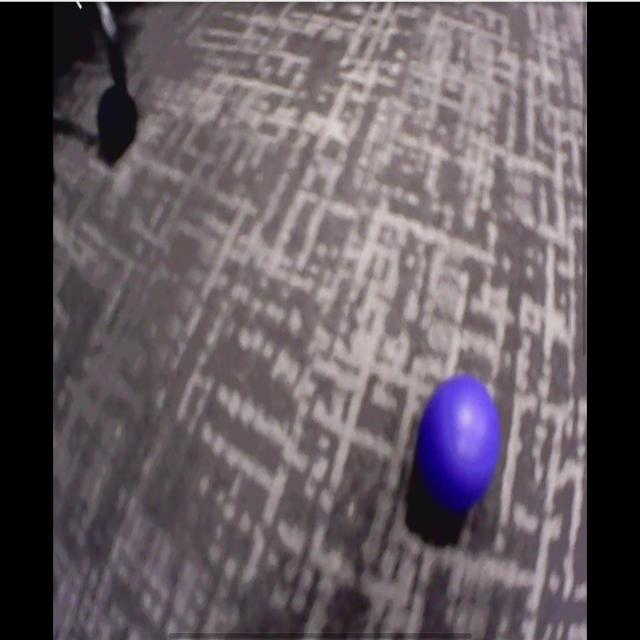ball: (418, 376, 499, 503)
